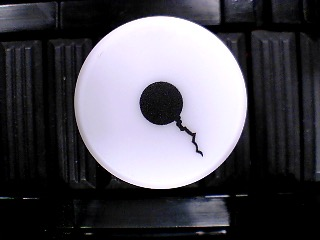CRACK: (74, 16, 248, 190)
